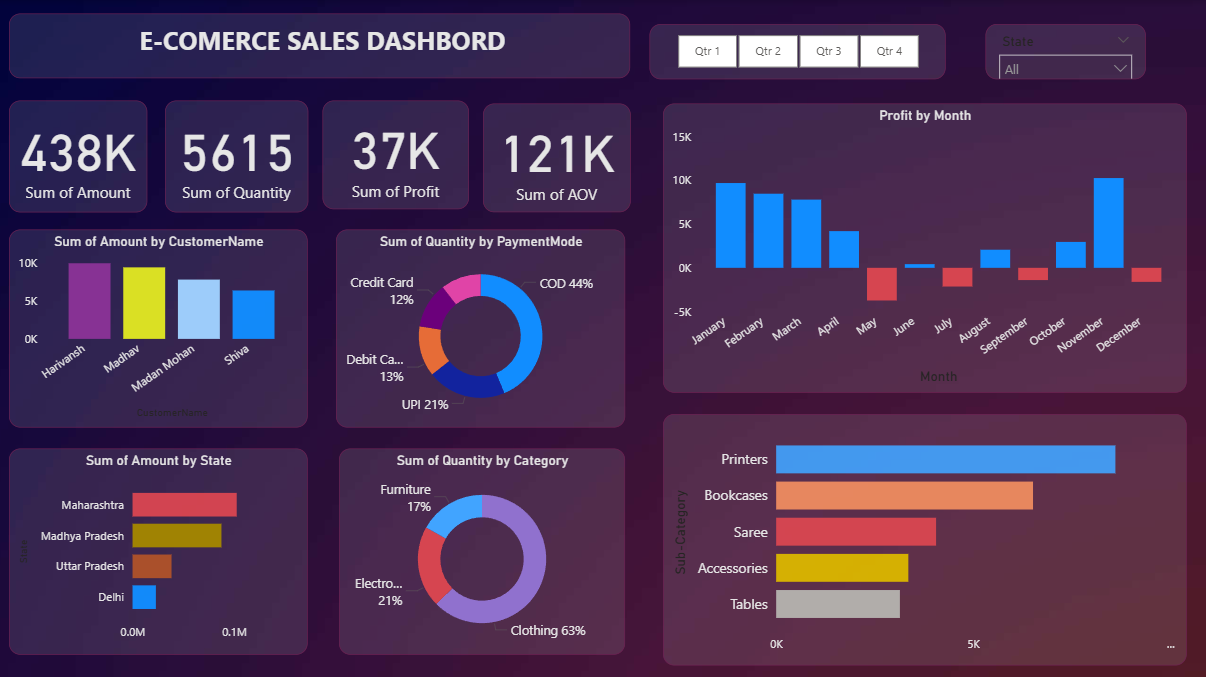

What the dashboard file says about the page in this screenshot:
{"tool":"powerbi","page":{"name":"Page 1","canvas":[1280,720],"ordinal":0},"visuals":[{"type":"textbox","box":[10,15,658.3,68.3],"z":0},{"type":"columnChart","title":"Profit by Month","fields":{"Y":["Details.Profit"],"Category":["Orders.Order Date.Variation.Date Hierarchy.Month"]},"box":[703.3,110,555,306.7],"z":1000},{"type":"barChart","fields":{"Category":["Details.Sub-Category"],"Y":["Details.Profit"]},"box":[703.3,438.3,555,266.7],"z":2000},{"type":"donutChart","fields":{"Category":["Details.Category"],"Y":["Details.Quantity"]},"box":[360,475,303.3,218.3],"z":3000},{"type":"donutChart","fields":{"Category":["Details.PaymentMode"],"Y":["Details.Quantity"]},"box":[356.7,243.3,306.7,210],"z":4000},{"type":"card","fields":{"Values":["Details.Amount"]},"box":[10,106.7,146.7,118.3],"z":5000},{"type":"card","fields":{"Values":["Details.Quantity"]},"box":[175,106.7,151.7,118.3],"z":6000},{"type":"card","fields":{"Values":["Details.Profit"]},"box":[341.7,106.7,155,115],"z":7000},{"type":"card","fields":{"Values":["Details.AOV"]},"box":[511.7,110,156.7,115],"z":8000},{"type":"barChart","fields":{"Category":["Orders.State"],"Y":["Details.Amount"]},"box":[10,475,316.7,218.3],"z":9000},{"type":"columnChart","fields":{"Category":["Orders.CustomerName"],"Y":["Details.Amount"]},"box":[10,243.3,316.7,210],"z":10000},{"type":"slicer","fields":{"Values":["Orders.Order Date.Variation.Date Hierarchy.Quarter"]},"box":[688.6,25.7,314.3,58.6],"z":11000},{"type":"slicer","fields":{"Values":["Orders.State"]},"box":[1044.3,25.7,170,58.6],"z":12000}]}

Visuals, with their boxes in screenshot pixels (x1, y1, x2, y2), scaled from the page's 1280x720 canvas onto the 1206x677 screenshot:
textbox: (left=9, top=14, right=630, bottom=78)
"Profit by Month" columnChart: (left=663, top=103, right=1186, bottom=392)
barChart - Details.Sub-Category x Details.Profit: (left=663, top=412, right=1186, bottom=663)
donutChart - Details.Category x Details.Quantity: (left=339, top=447, right=625, bottom=652)
donutChart - Details.PaymentMode x Details.Quantity: (left=336, top=229, right=625, bottom=426)
card - Details.Amount: (left=9, top=100, right=148, bottom=212)
card - Details.Quantity: (left=165, top=100, right=308, bottom=212)
card - Details.Profit: (left=322, top=100, right=468, bottom=208)
card - Details.AOV: (left=482, top=103, right=630, bottom=212)
barChart - Orders.State x Details.Amount: (left=9, top=447, right=308, bottom=652)
columnChart - Orders.CustomerName x Details.Amount: (left=9, top=229, right=308, bottom=426)
slicer - Orders.Order Date.Variation.Date Hierarchy.Quarter: (left=649, top=24, right=945, bottom=79)
slicer - Orders.State: (left=984, top=24, right=1144, bottom=79)
